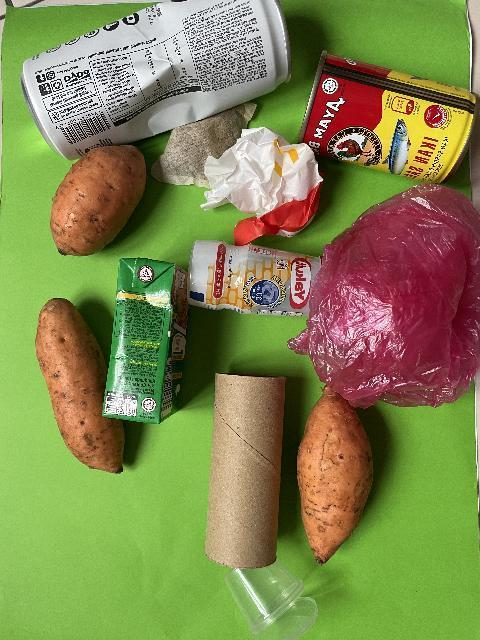drinkcan: (20, 0, 292, 162)
foodcan: (296, 50, 480, 186)
paperbag: (200, 124, 326, 246)
plasticbag: (286, 181, 480, 409)
plasticbottle: (186, 239, 328, 317)
plasticcontainer: (224, 554, 318, 640)
sweetpotato: (34, 297, 126, 475), (296, 382, 374, 566), (49, 144, 147, 258)
teabag: (150, 101, 258, 191)
tissueroll: (204, 370, 286, 570)
